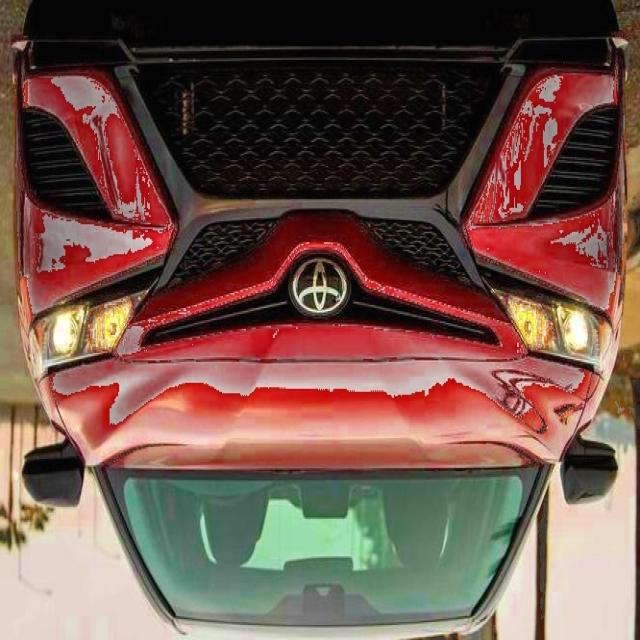maroon: (0, 0, 626, 627)
